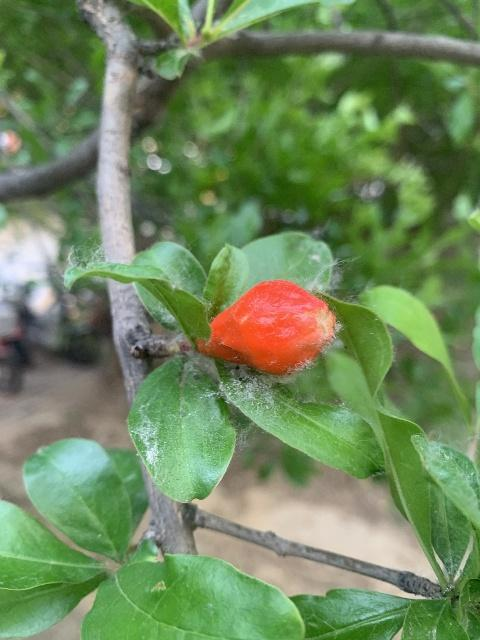bud: (197, 280, 336, 376)
